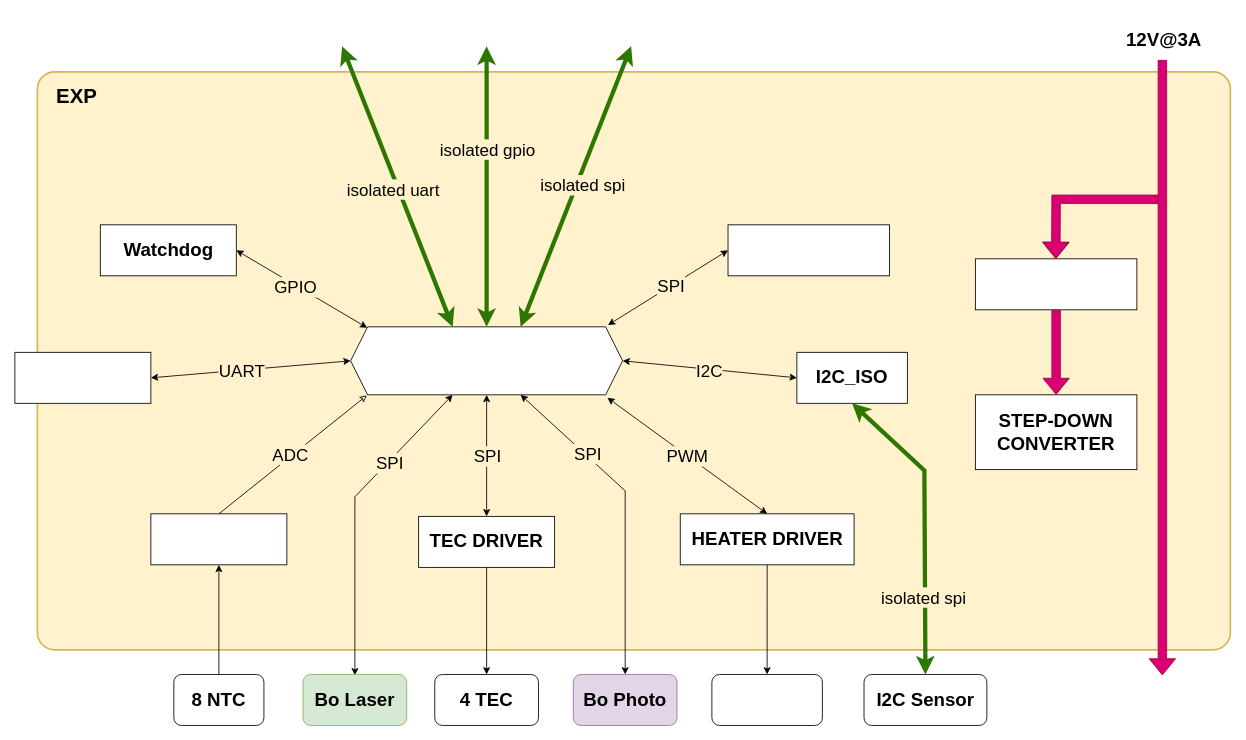
The diagram is 1246 pixels wide and 740 high, and some of its shapes have lost their labels. Here are the shapes that lost their labels. From the top down, the centre of each, then its label:
At (x=808, y=250): "SPI FRAM".
At (x=1056, y=284): "FUSE".
At (x=82, y=377): "CONSOLE".
At (x=486, y=360): "MCU - STM32F7".
At (x=218, y=539): "AMPLIFIER".
At (x=766, y=699): "4 HEATER".
